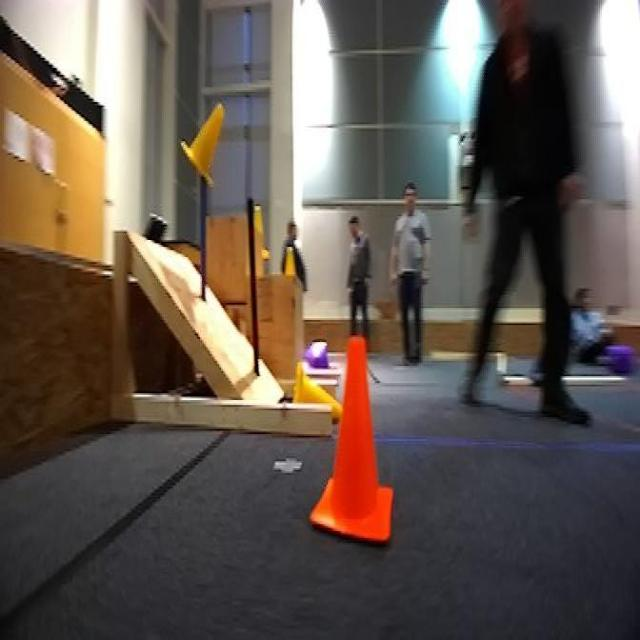frc_cone: (176, 97, 230, 187), (288, 361, 342, 422), (288, 242, 302, 277)
frc_cube: (603, 341, 633, 376), (310, 339, 328, 374)
